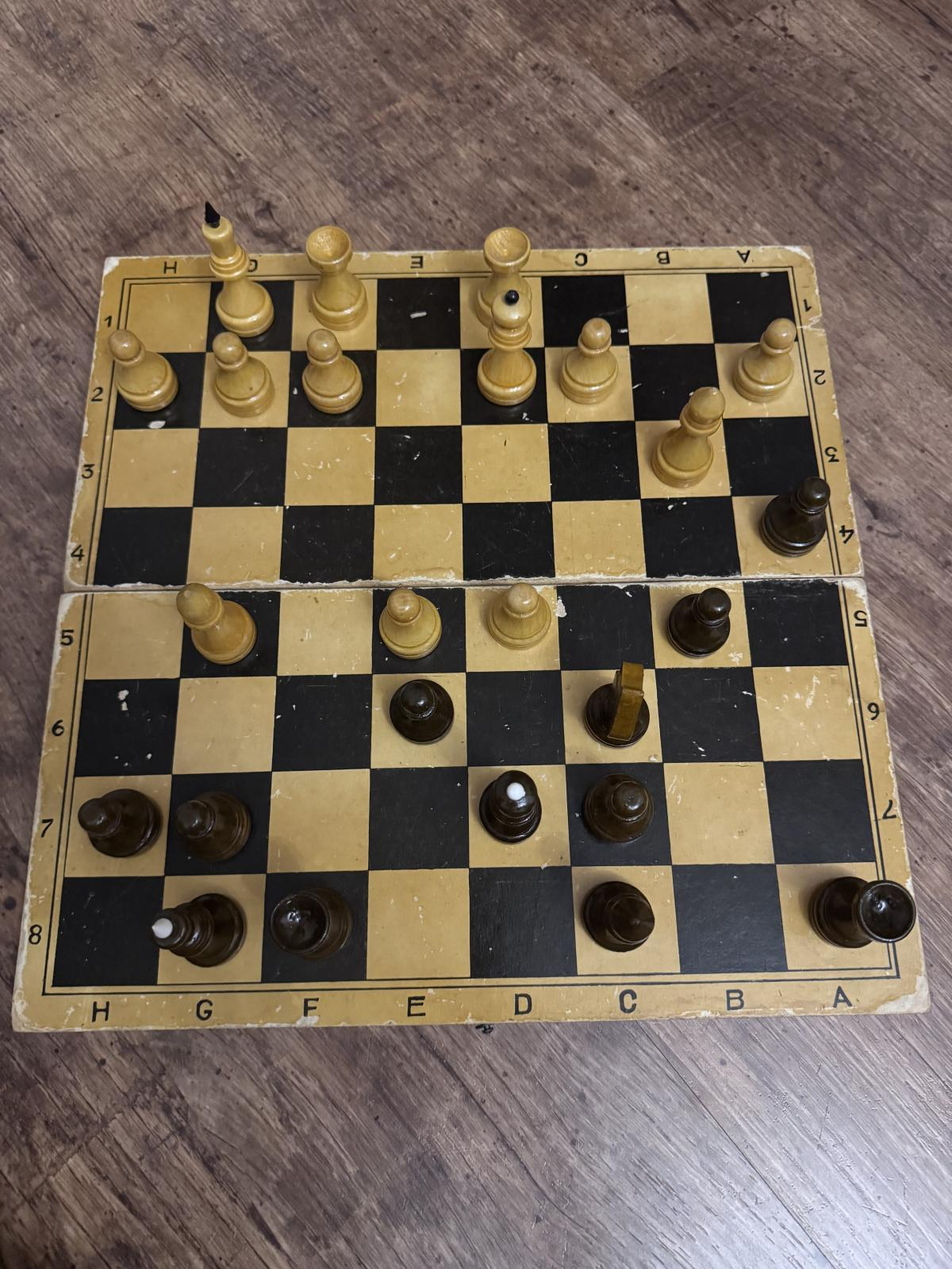Chess-Board: (52, 271, 891, 986)
